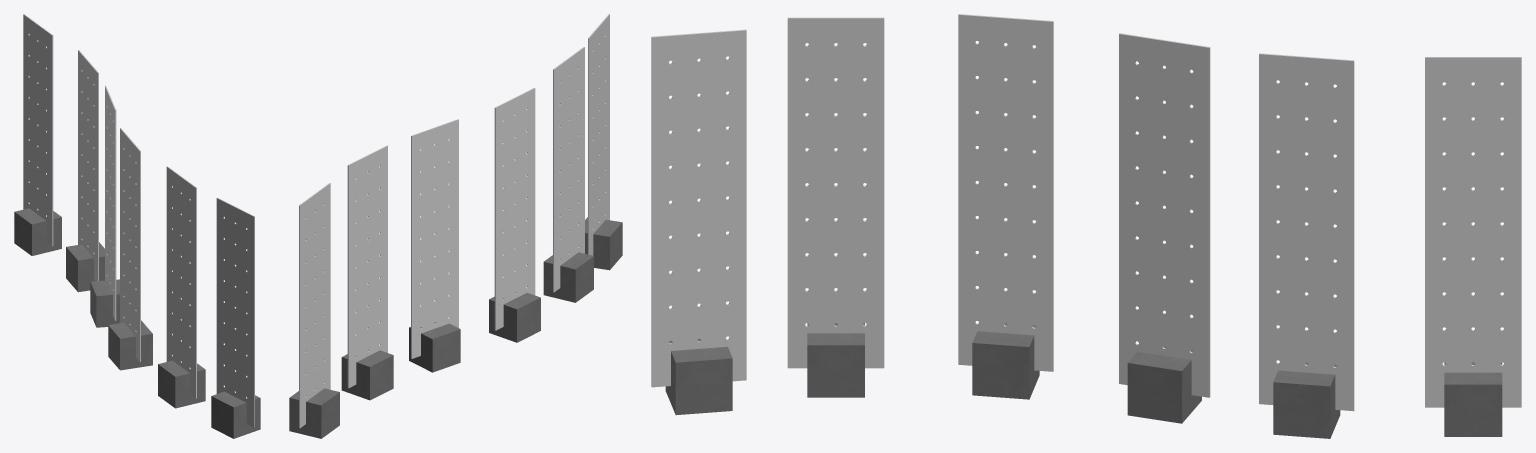
Rendered from amr.glb.
3 views of the same model, side by side, from view 1: azimuth 30°, elevation 25°; view 2: azimuth 150°, elevation 25°; view 3: azimuth 270°, elevation 25° (orthographic). The views are drawn at different scales.
Parts seen in each view (by area): view 1: mirror (×6), base (×6); view 2: mirror (×6), base (×6); view 3: mirror (×6), base (×6).
Boxes of the visible parts, x1,y1,x2,y2 form: mirror (×6): (23, 14, 254, 427); base (×6): (14, 208, 260, 438); mirror (×6): (299, 14, 609, 428); base (×6): (289, 217, 622, 438); mirror (×6): (651, 14, 1521, 411); base (×6): (665, 323, 1502, 438).
Bounding box in the file's own units: 82.96 × 213 × 451.
Materials: 2 (1 with a texture image).
